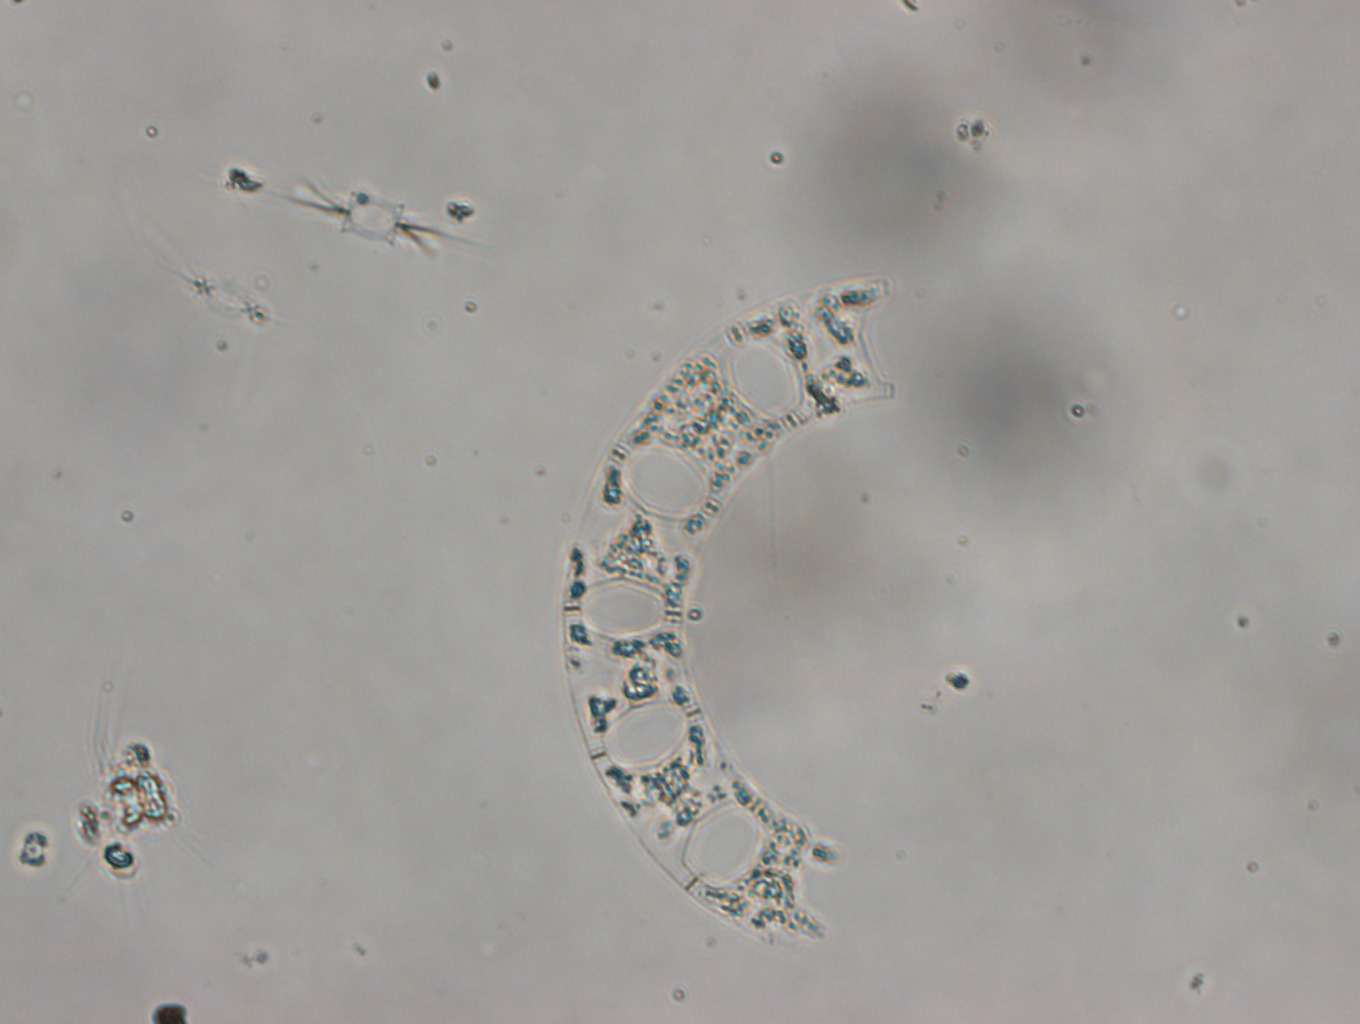chaetoceros: (295, 173, 459, 269)
eucampia: (545, 229, 893, 959)
